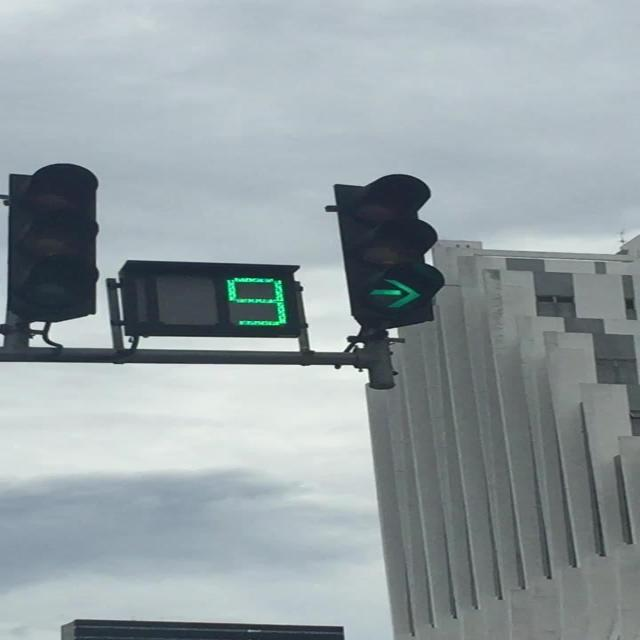traffic light: (332, 174, 445, 331), (7, 163, 99, 324), (118, 260, 302, 338)
